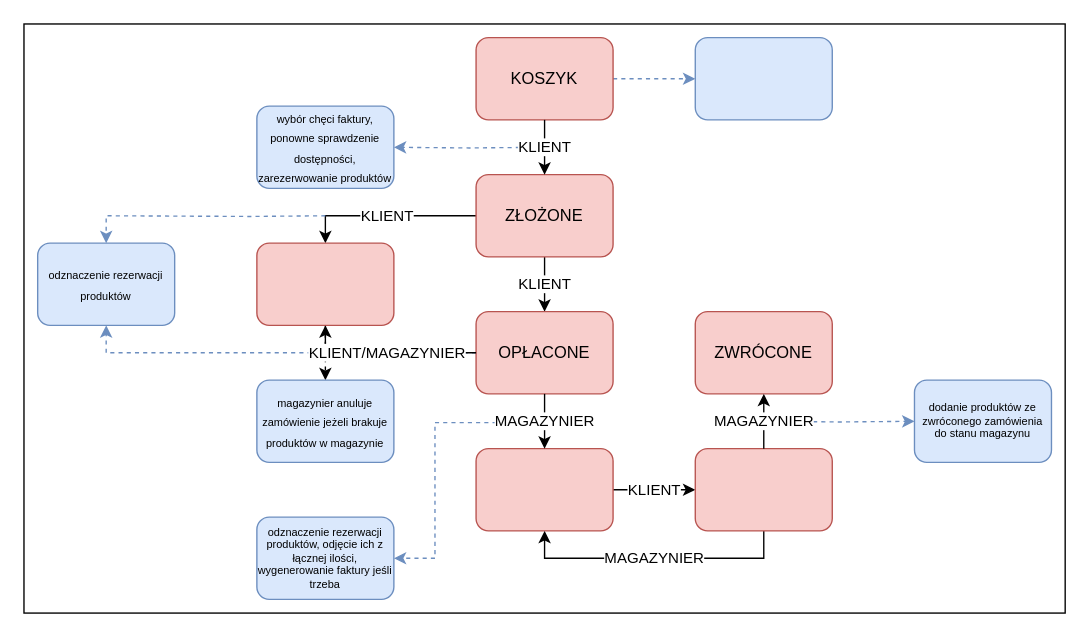
This 1089x637 diagram has some shape labels left out. Here are the shapes that lost their labels. From the top down, the centre of each, then its label:
At point (763, 78): "klient może dodawać nowe pozycje do zamówienia, po sprawdzeniu dostępności".
At point (325, 283): "ANULOWANE".
At point (544, 489): "ZREALIZOWANE".
At point (763, 489): "ZGŁOSZONY ZWROT".
